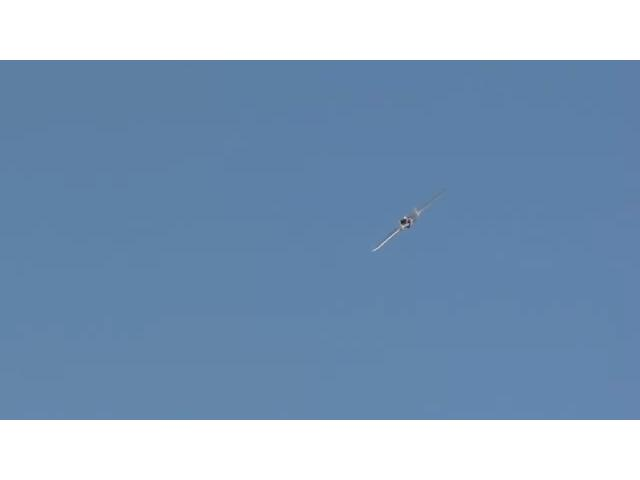Anti-Drone: (370, 193, 446, 253)
